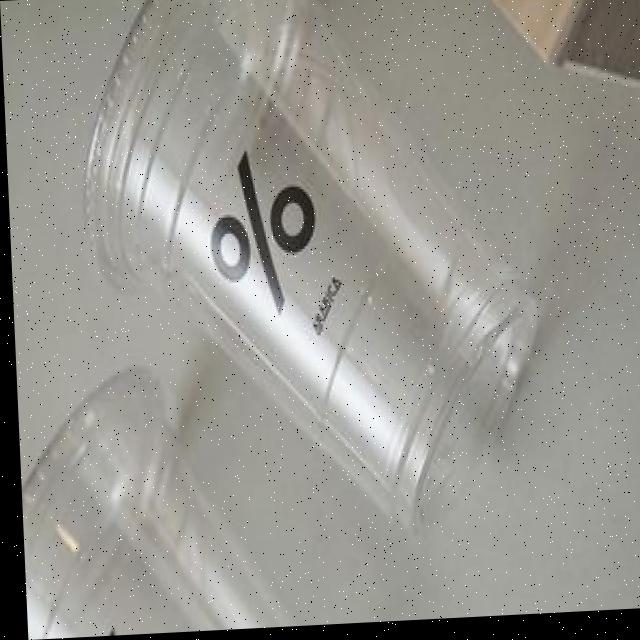cup: (83, 0, 533, 534), (17, 371, 288, 640)
